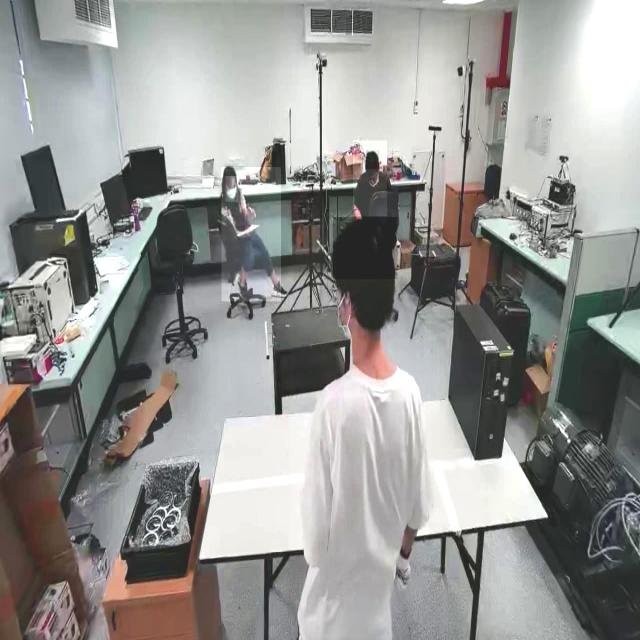face_mask: (226, 176, 238, 202)
hand_noglove: (246, 204, 256, 220)
head_nohelmet: (332, 217, 398, 280), (366, 150, 380, 170), (223, 163, 237, 177)
person: (289, 221, 431, 639), (221, 167, 281, 302), (353, 140, 387, 217)
shoes: (236, 270, 250, 302), (272, 280, 288, 300)
